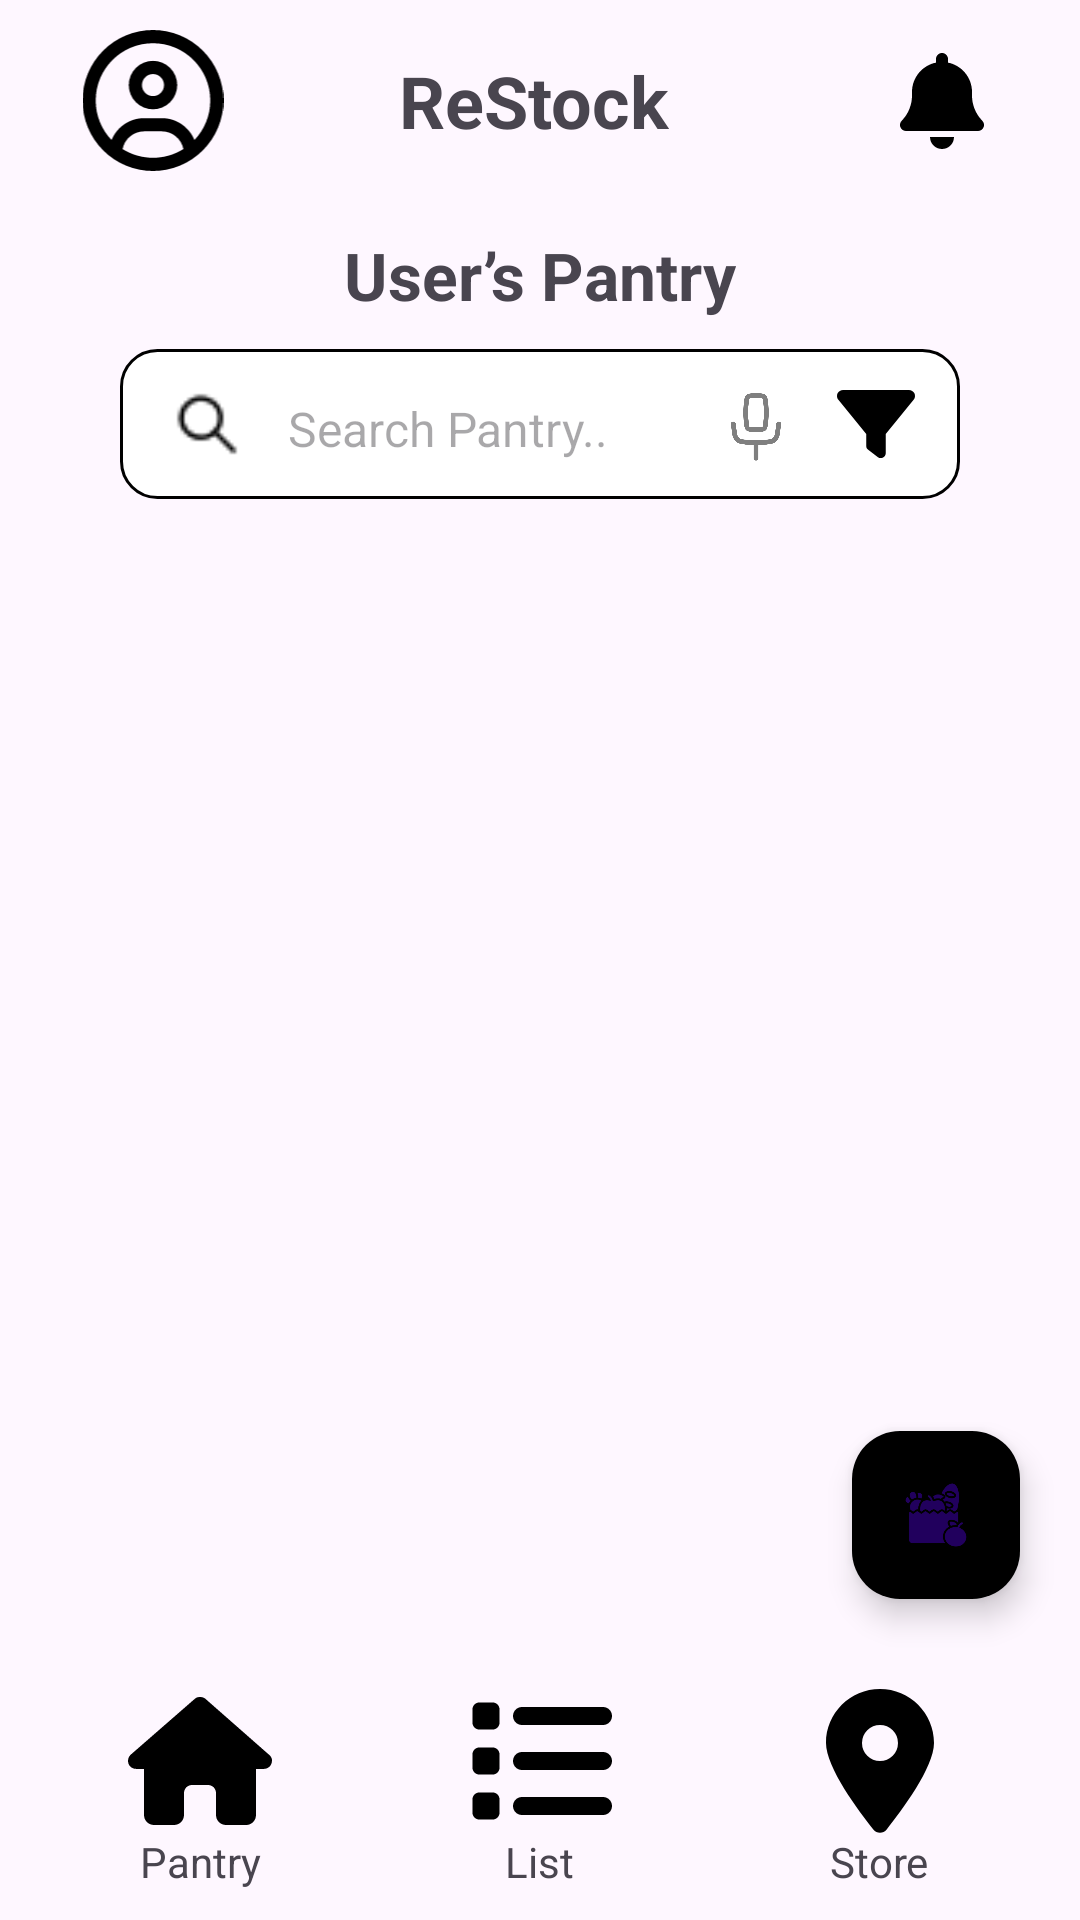

Icon click points for this 1080*1920 phone screenshot, format point (x, y):
Filter Pantry: point (876, 424)
Voice Search: point (756, 427)
